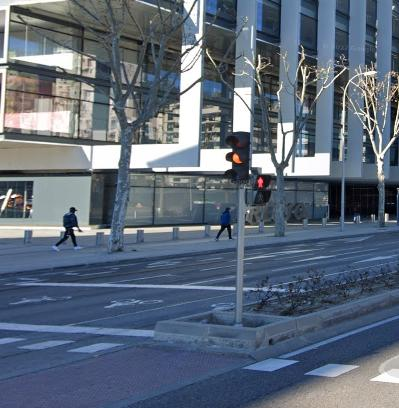yellow_light: (224, 131, 252, 181)
